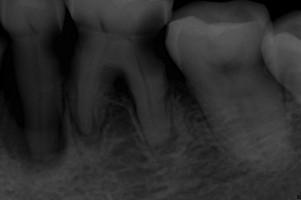Dental Caries: (0, 92, 68, 173), (109, 70, 136, 114), (70, 115, 104, 145)
